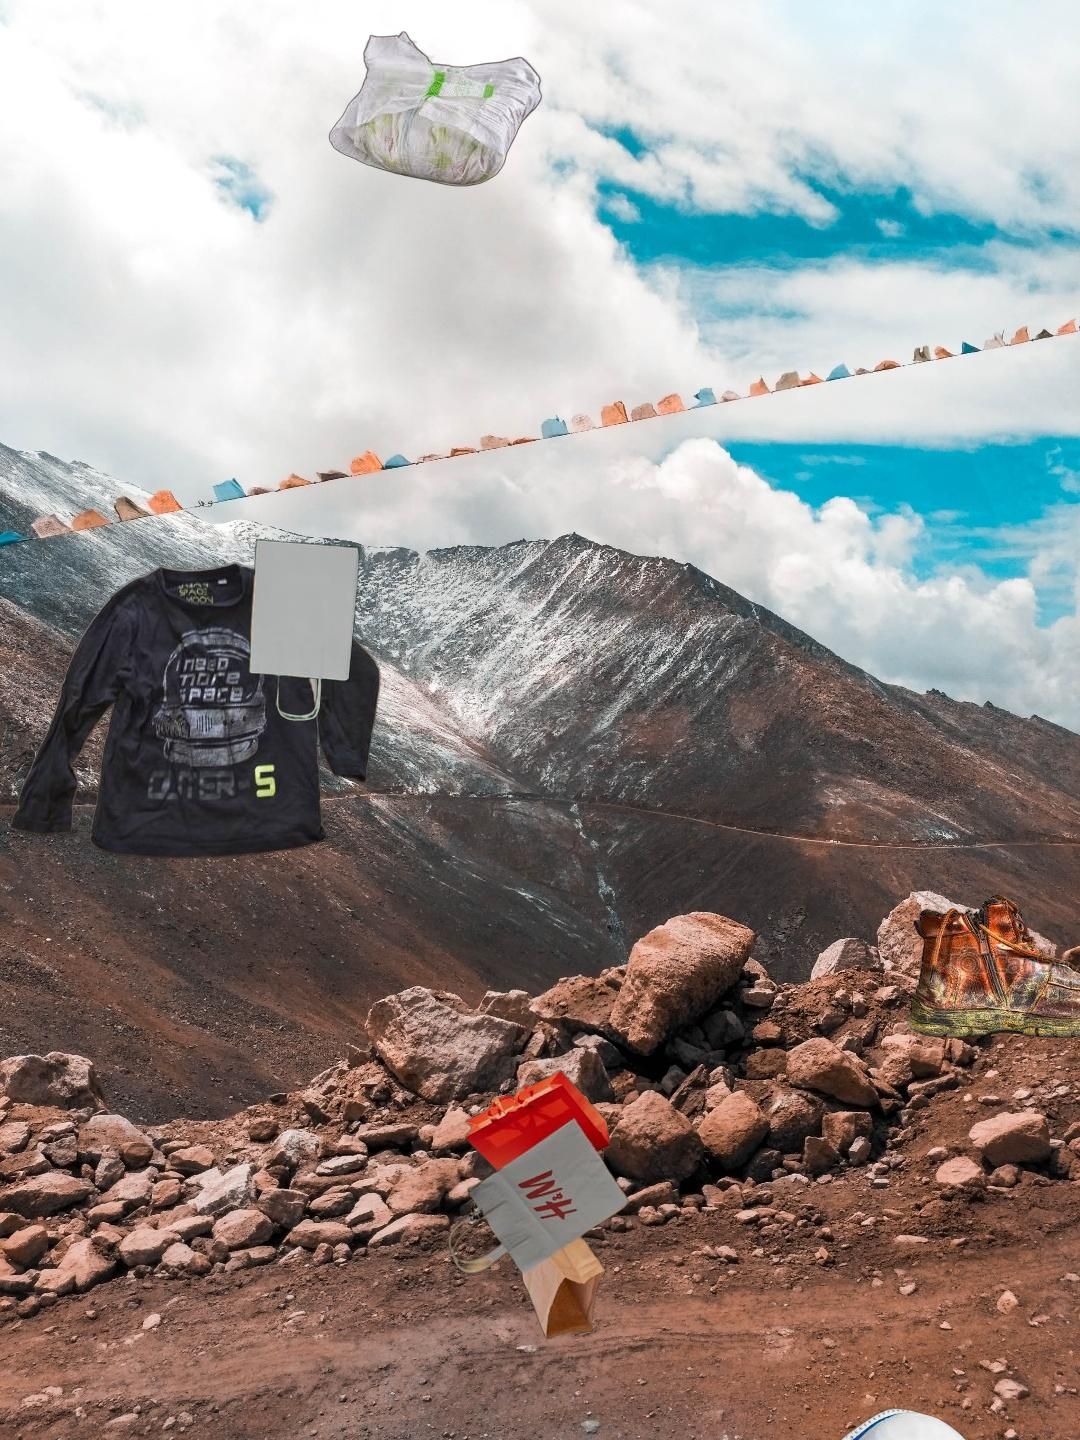biological: (870, 1406, 1080, 1440)
clothes: (7, 557, 382, 863)
paper-bag: (445, 1067, 633, 1342), (179, 537, 362, 725)
shoes: (904, 887, 1080, 1041)
trash: (326, 29, 545, 189), (793, 1406, 998, 1440)
